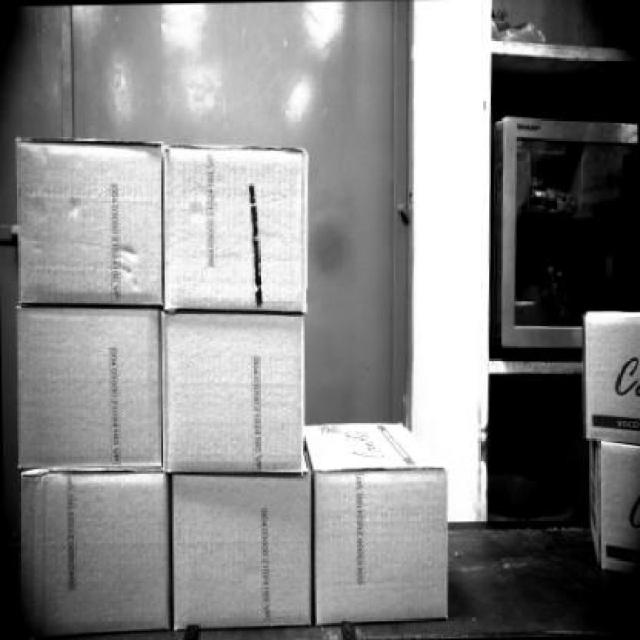cardboxes: (300, 424, 453, 630), (162, 138, 312, 319), (14, 474, 172, 636), (17, 136, 164, 310), (12, 308, 163, 474), (164, 310, 309, 477), (168, 474, 312, 636)
